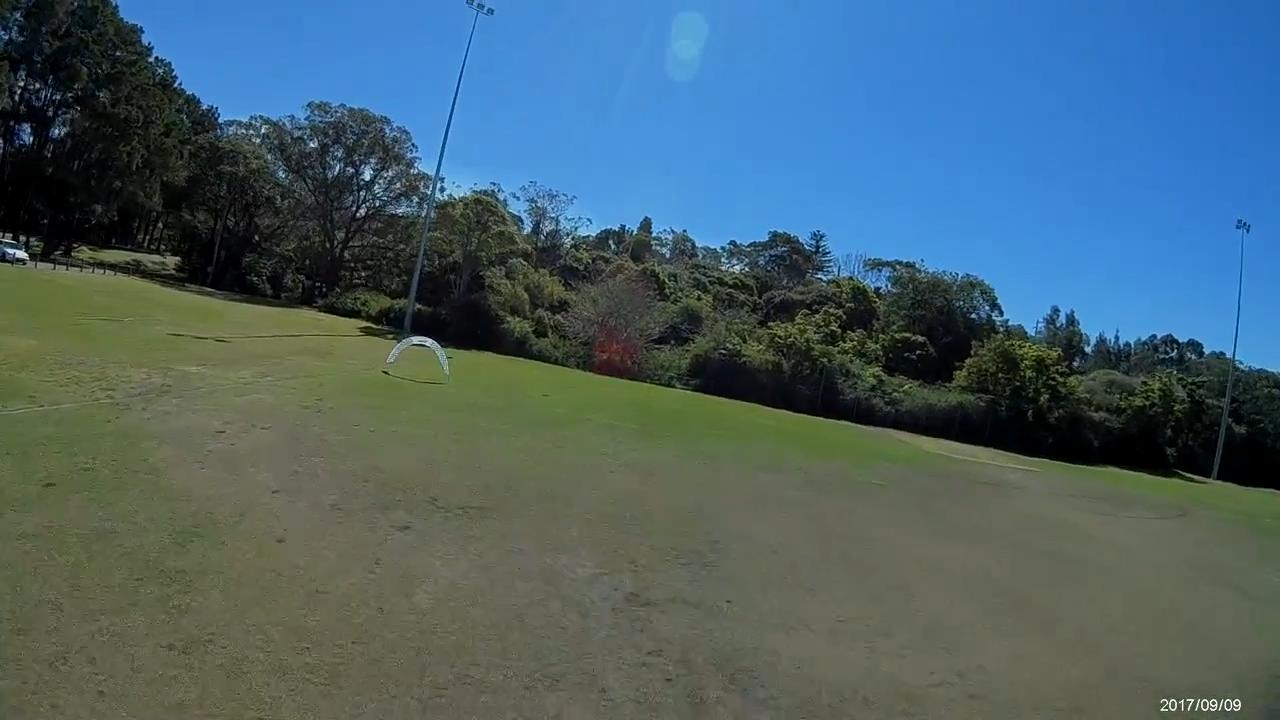gate: (387, 335, 452, 377)
